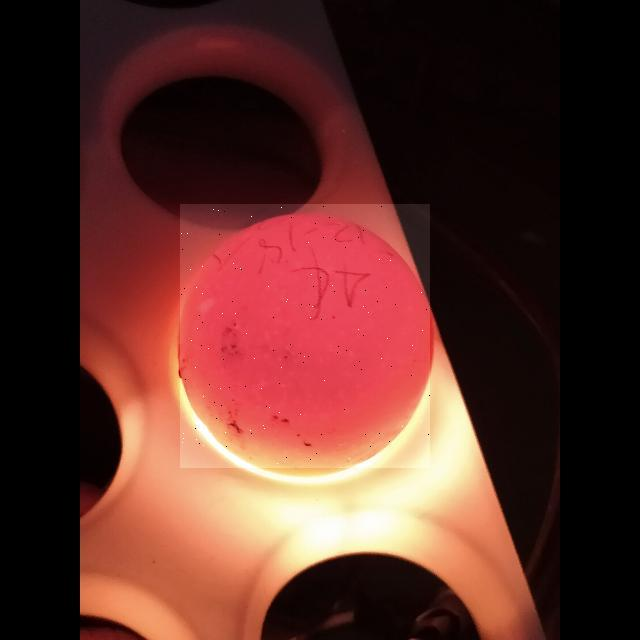B - Fair: (180, 204, 430, 468)
